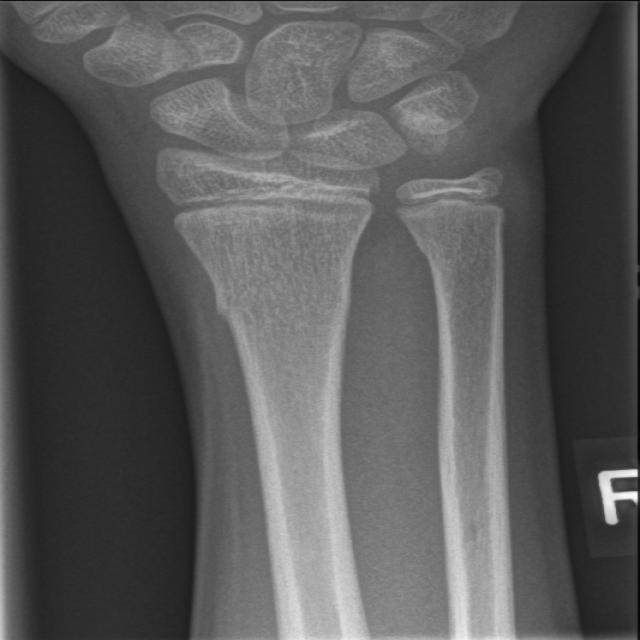radius fracture: (191, 253, 370, 366)
